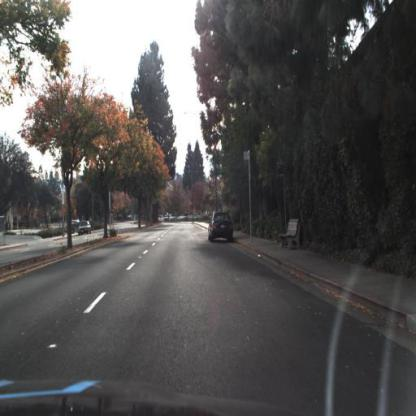car: (208, 208, 235, 246), (78, 220, 94, 236)
